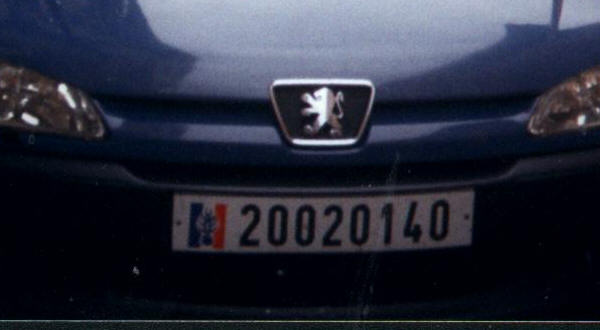license_plate: (170, 188, 475, 253)
